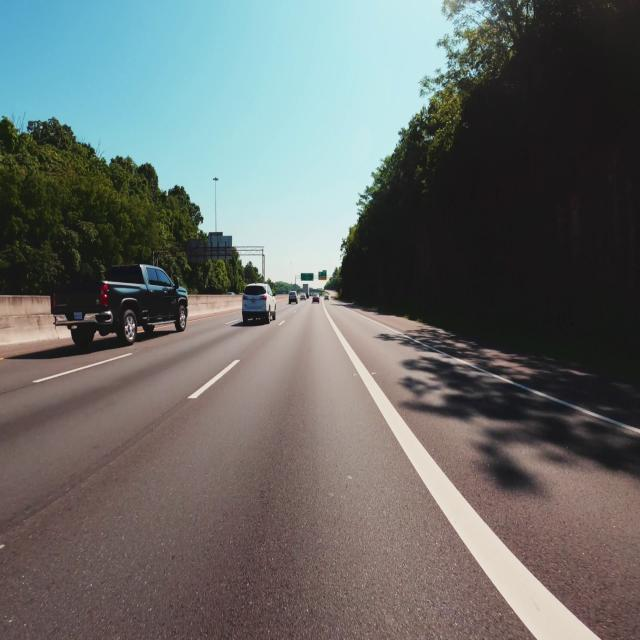car: (52, 265, 187, 346), (242, 283, 276, 323), (289, 291, 298, 303), (312, 294, 319, 303), (301, 292, 306, 300), (324, 294, 328, 299)
